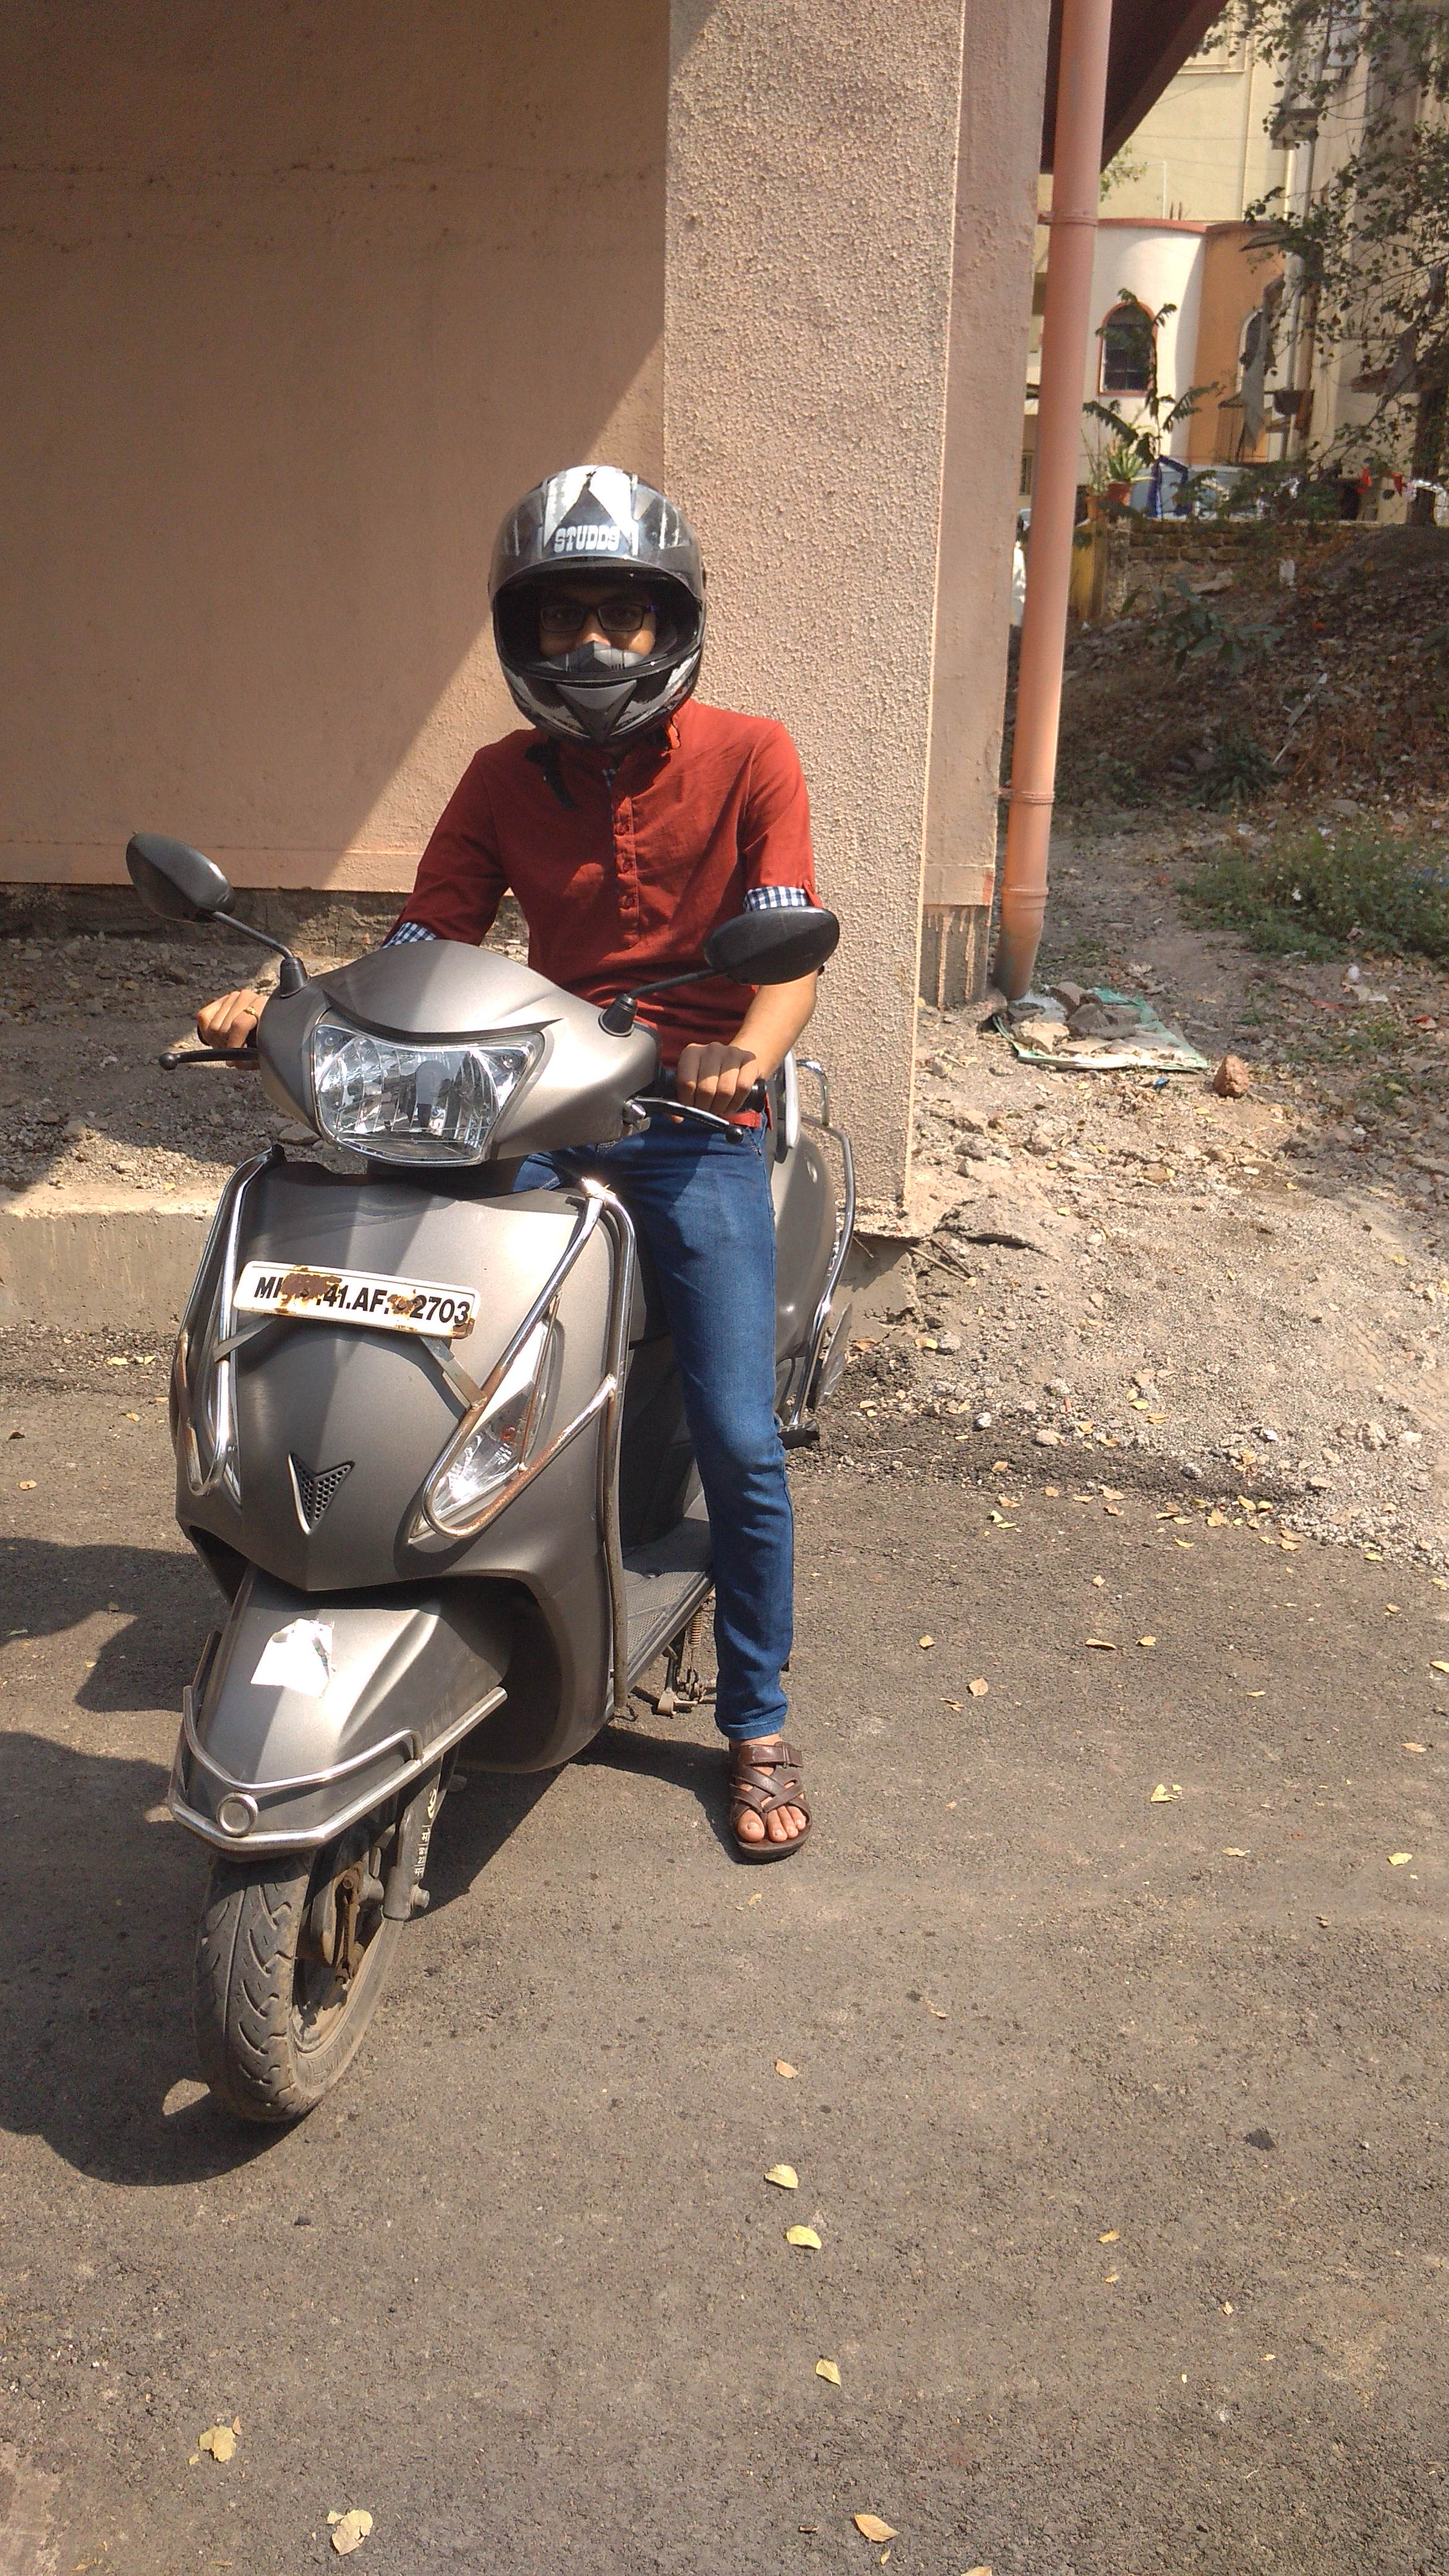helmet: (196, 467, 915, 1313)
